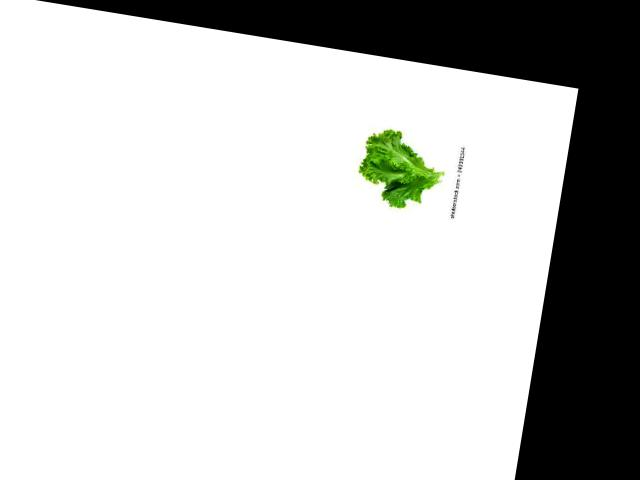lettuce: (351, 125, 455, 217)
